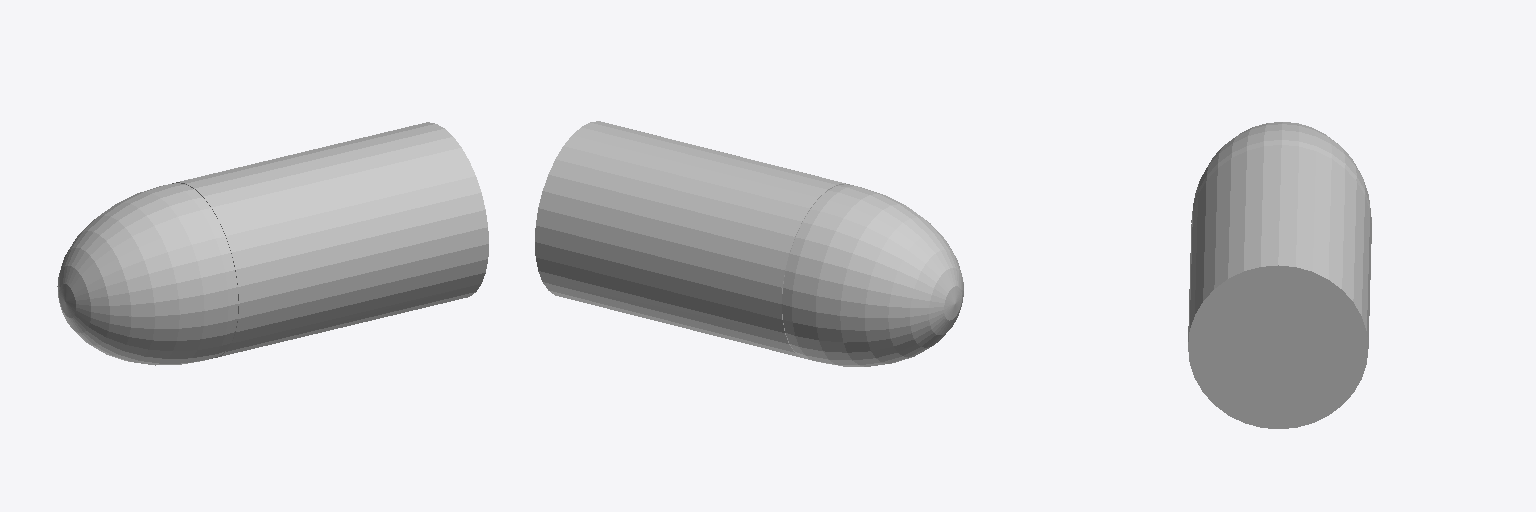
Rendered from Bullet.obj.
The picture shows the model from 3 angles: view 1: azimuth 30°, elevation 25°; view 2: azimuth 150°, elevation 25°; view 3: azimuth 270°, elevation 25°; orthographic projection.
Parts seen in each view (by area): view 1: Cylinder.001, Sphere; view 2: Cylinder.001, Sphere; view 3: Cylinder.001, Sphere.
Part boxes in pixels (x1,y1,x2,y2): Cylinder.001: (172, 122, 488, 358); Sphere: (57, 183, 238, 365); Cylinder.001: (535, 121, 853, 359); Sphere: (782, 184, 963, 366); Cylinder.001: (1188, 145, 1371, 428); Sphere: (1191, 122, 1371, 222).
Size of the model in its own units: 0.3735 by 0.1553 by 0.1576.